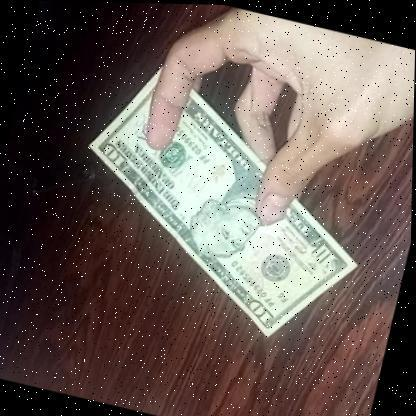ten-front: (53, 12, 402, 354)
